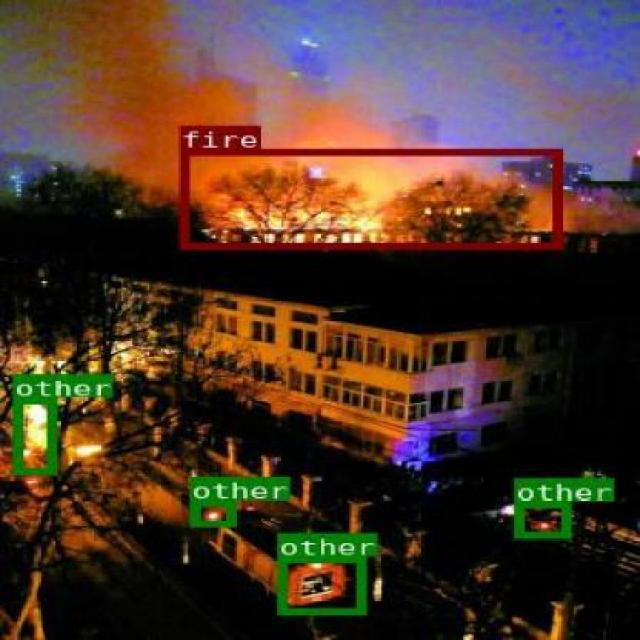Fire: (176, 148, 562, 248)
Smoke: (42, 14, 260, 111)
